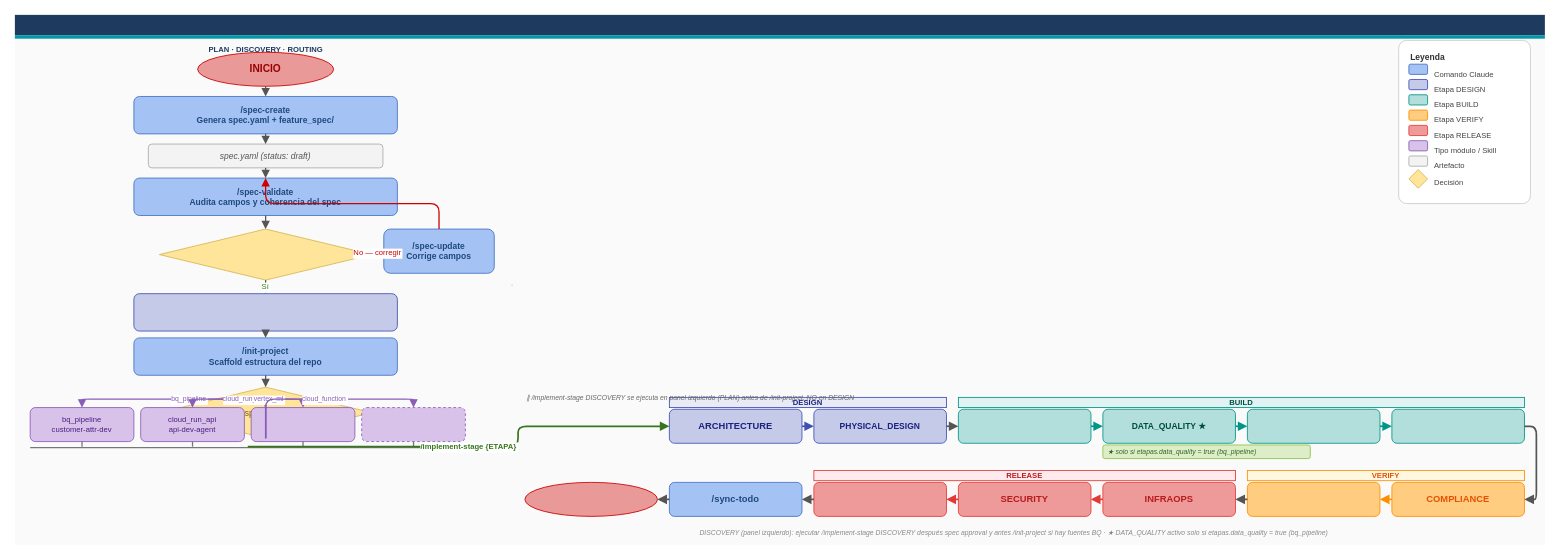
Some shapes in this 1559 by 559 pixel diagram are drawn without their labels. The centre of each missing label's shape, as x and y in pixels:
/implement-stage DISCOVERY Mapear fuentes + enriquecer spec: [265,312]
cloud_function skill CF (futuro): [413,424]
CODING: [1024,425]
DATAOPS: [1457,425]
DOCUMENTATION: [879,499]
FIN: [590,499]
Fábrica de Desarrollo — ITC Data Platform: [779,24]
ORCHESTRATION: [1313,425]
TESTING: [1313,499]
vertex_ml mlops-dev-agent: [302,424]
¿status=approved?: [265,254]
